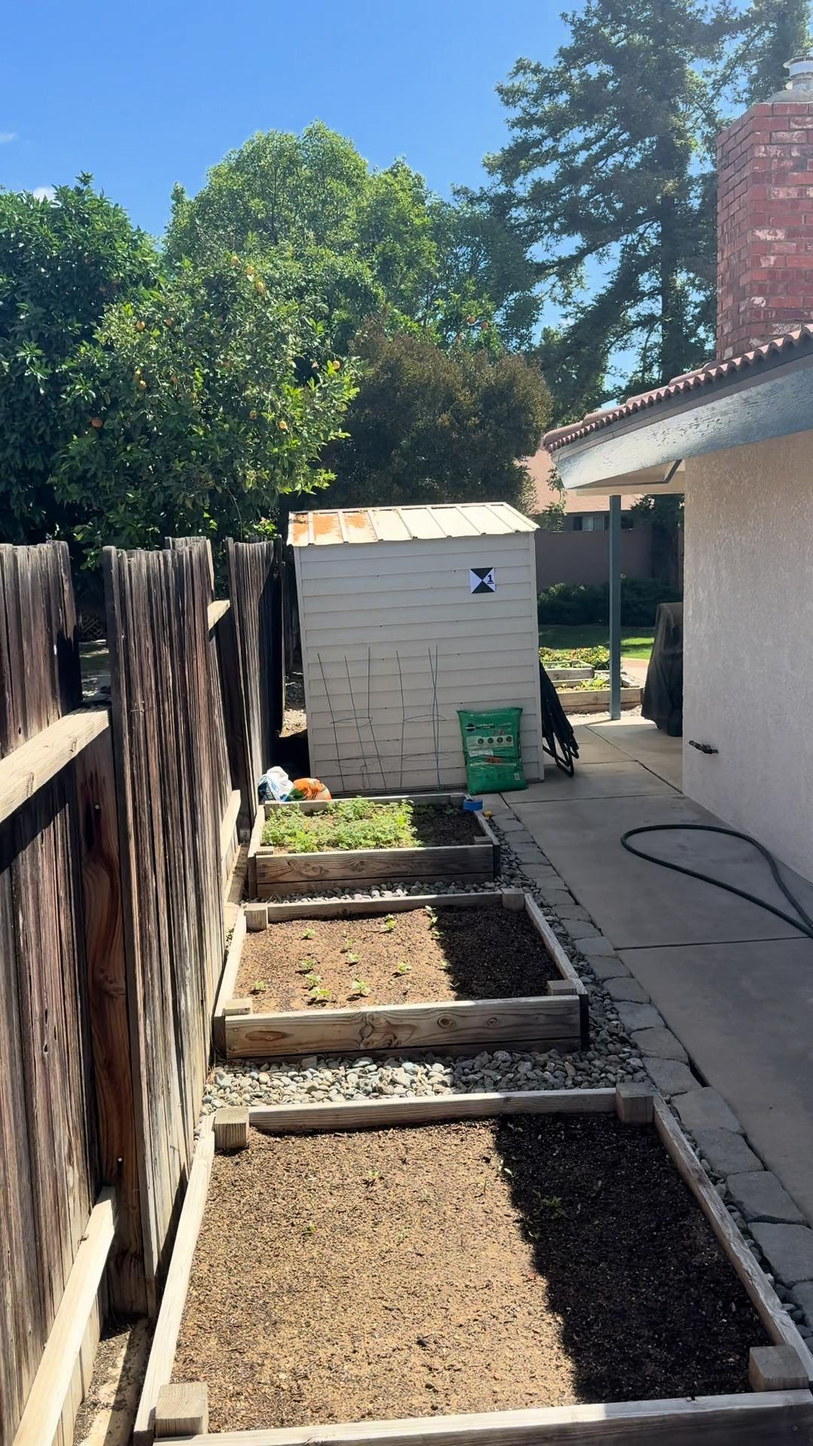target1: (467, 566, 498, 596)
